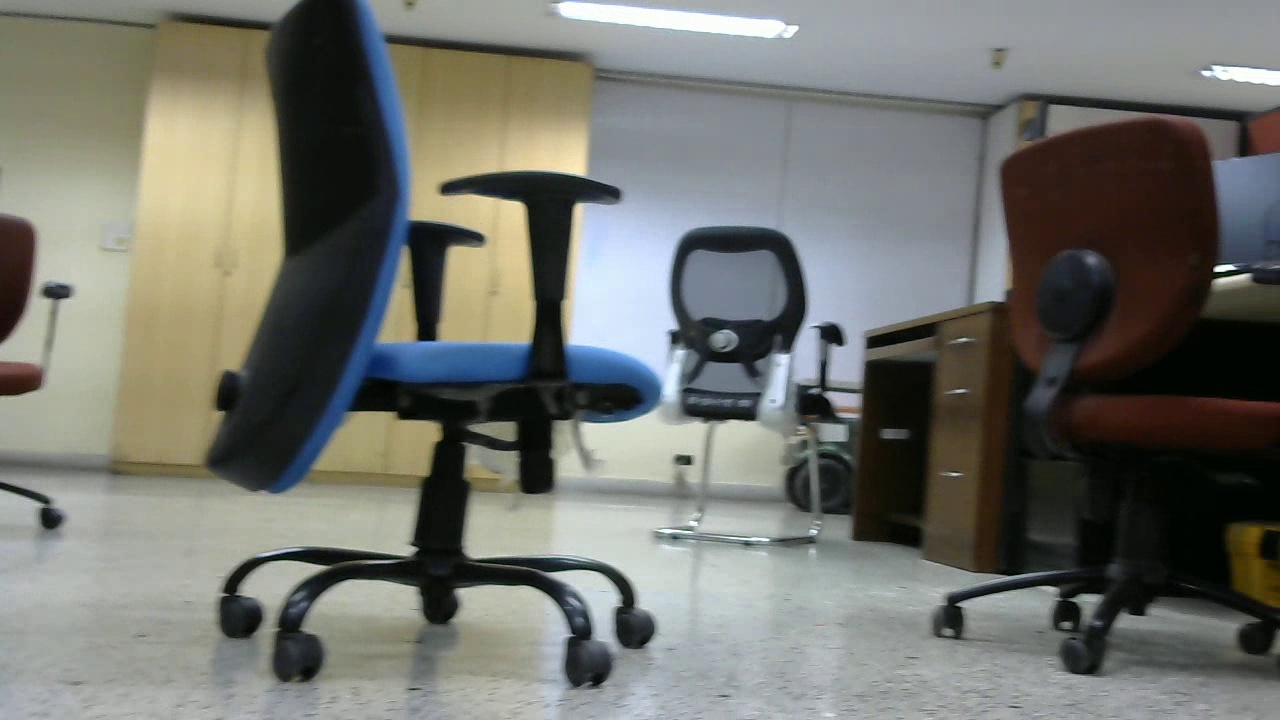chair: (222, 2, 666, 687), (971, 102, 1280, 680), (646, 218, 846, 549)
